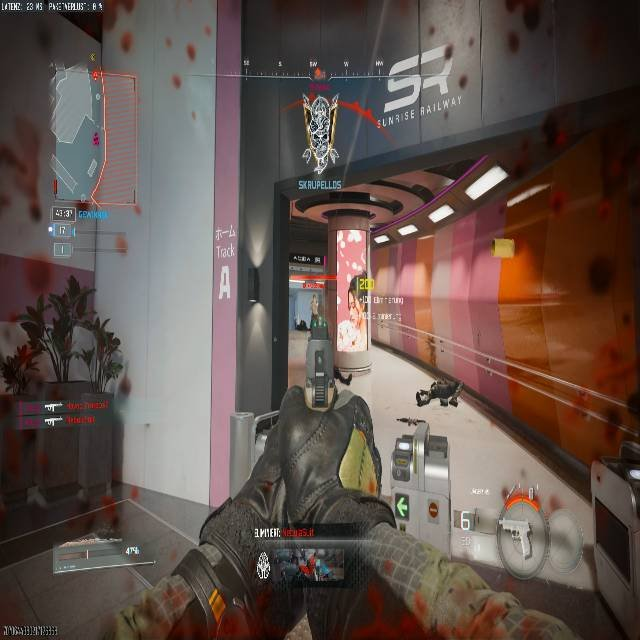player: (1, 273, 127, 405), (310, 294, 319, 317)
